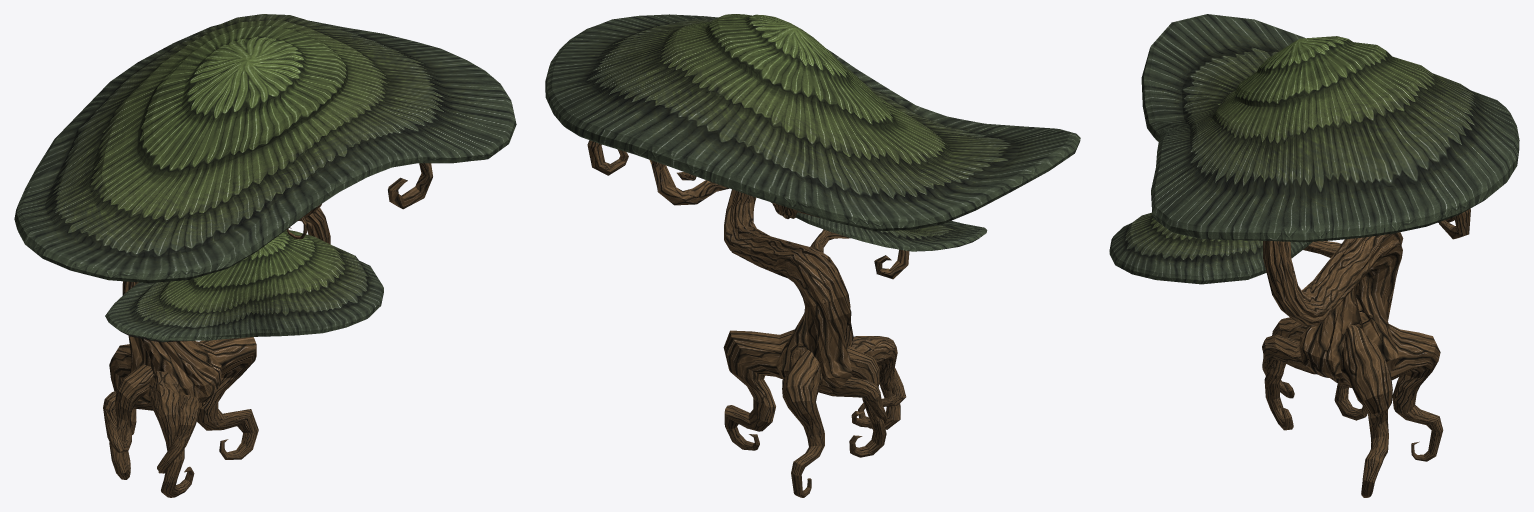
The model's file is Medium Oak Tree.gltf.
3 views of the same model, side by side, from view 1: azimuth 30°, elevation 25°; view 2: azimuth 150°, elevation 25°; view 3: azimuth 270°, elevation 25° (orthographic). The views are drawn at different scales.
Bounding box in the file's own units: 8.98 × 7.73 × 6.21.
2 materials, 2 textured.
